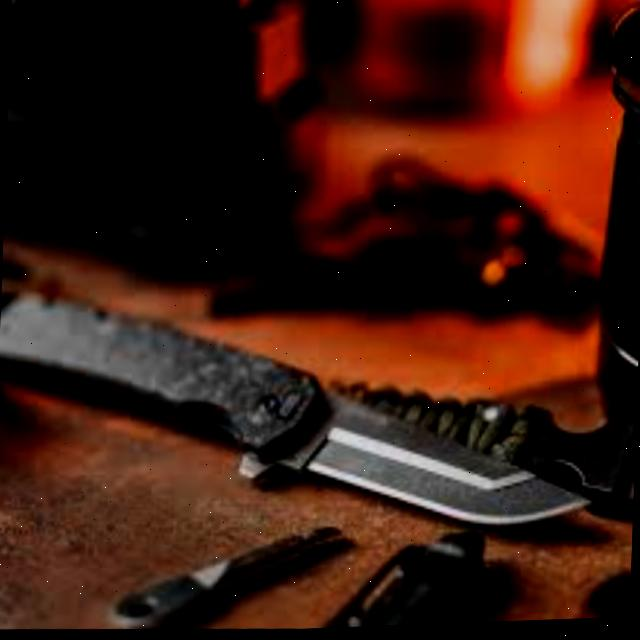knife: (0, 265, 602, 548)
